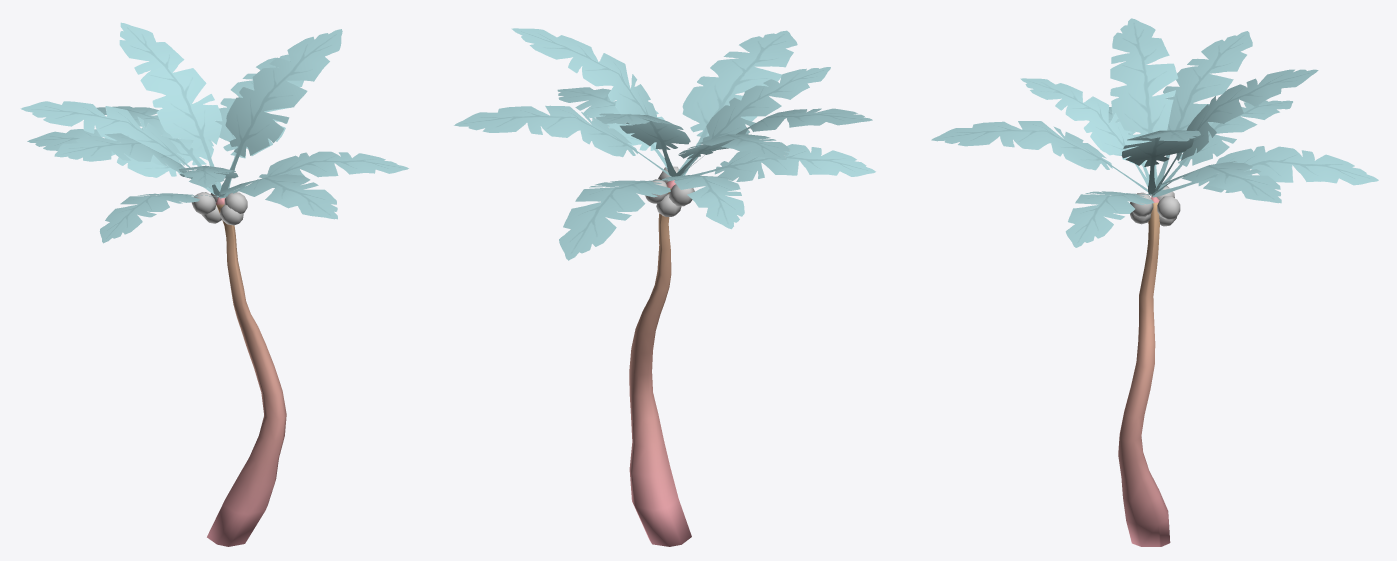
The model's file is M.coconut_tree-v1.2.fbx.
3 views of the same model, side by side, from view 1: azimuth 30°, elevation 25°; view 2: azimuth 150°, elevation 25°; view 3: azimuth 270°, elevation 25° (orthographic). The views are drawn at different scales.
Parts seen in each view (by area): view 1: palmtree_04.010; view 2: palmtree_04.010; view 3: palmtree_04.010.
Boxes of the visible parts, box(x1,y1,x2,y2) form: palmtree_04.010: box(20, 22, 408, 546); palmtree_04.010: box(454, 28, 875, 546); palmtree_04.010: box(931, 18, 1378, 546).
Size of the model in its own units: 819 by 1042 by 936.
